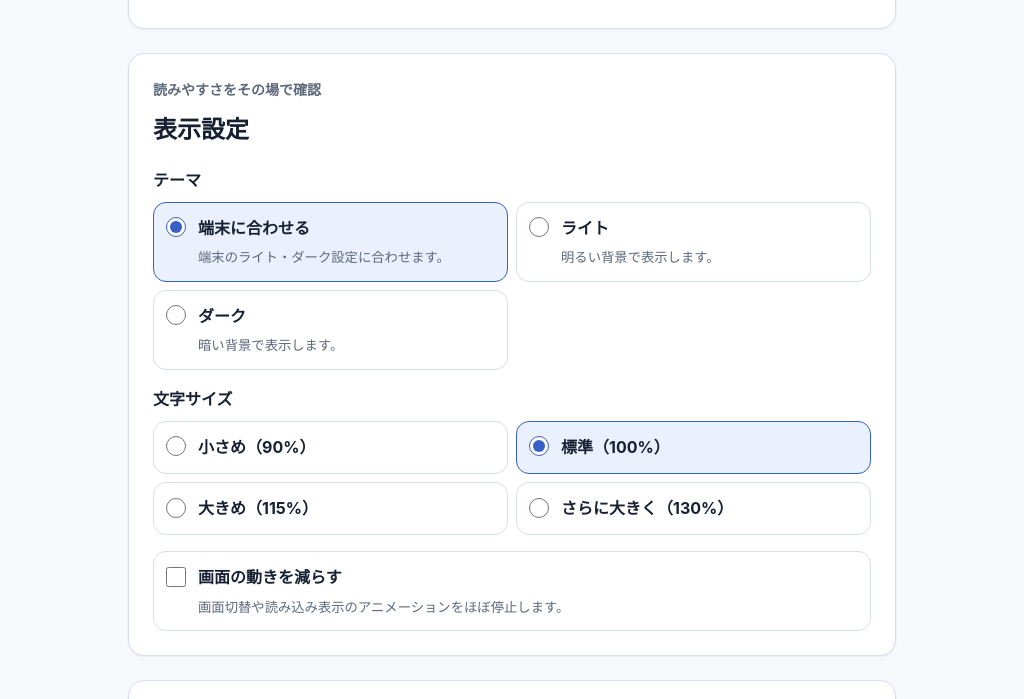
Test: SettingsPage › 保存失敗を画面内に残し、現在値で再試行できる
(page scrolled)
Expected: the heading "表示設定" is shown, [153,115,249,144]
Click the radio button labelled "ダーク 暗い背景で表示します。" at (176, 315), box [166,305,186,325]
(page scrolled)
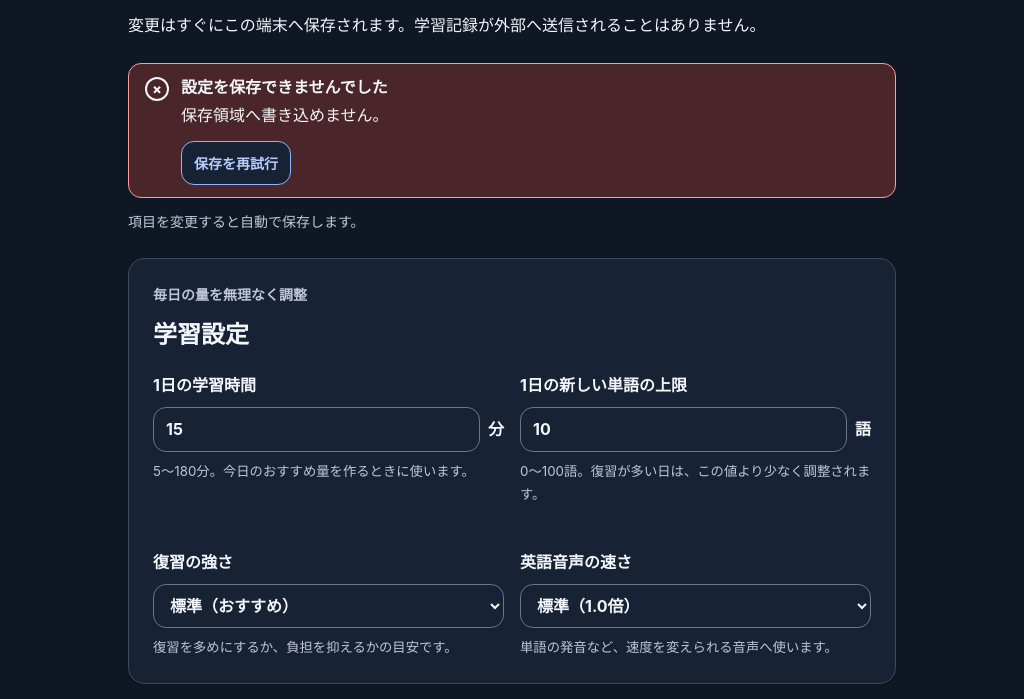
Now the text "設定を保存できませんでした" is shown, box [181,77,388,97]
Now the text "保存領域へ書き込めません。" is shown, box [181,105,388,125]
Click the button "保存を再試行" at (236, 163), box [181,141,291,185]
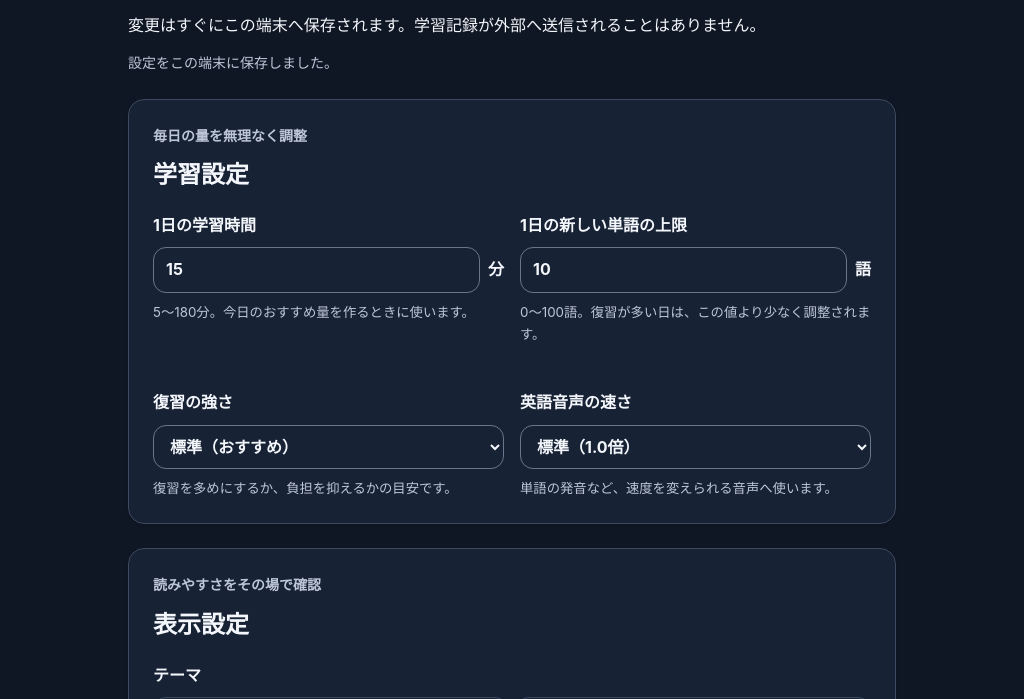
Now the message named "設定の保存状態" shows "設定をこの端末に保存しました", box [128,54,338,71]
